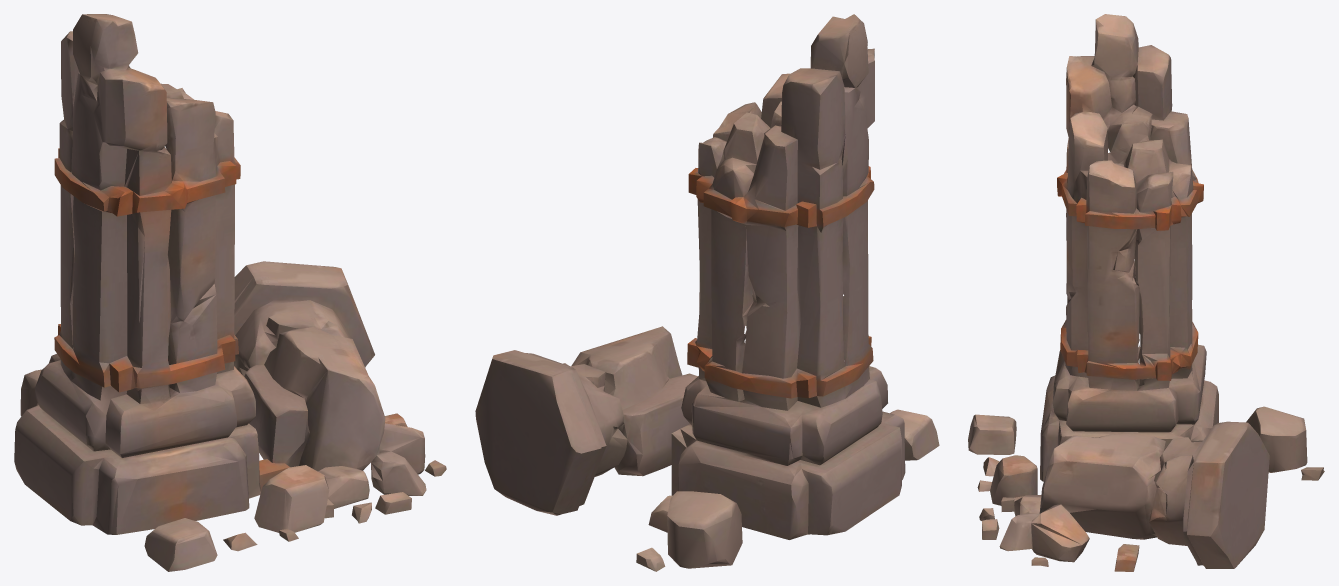
Rendered from column_broken.glb.
The picture shows the model from 3 angles, left to right: view 1: azimuth 30°, elevation 25°; view 2: azimuth 150°, elevation 25°; view 3: azimuth 270°, elevation 25°; orthographic projection. The views are drawn at different scales.
Parts seen in each view (by area): view 1: body; view 2: body; view 3: body.
Boxes of the visible parts, left/top/right/bottom form: body: left=14, top=14, right=446, bottom=571; body: left=475, top=14, right=939, bottom=571; body: left=968, top=14, right=1324, bottom=571.
Size of the model in its own units: 1.21 by 1.6 by 1.19.
Materials: 1 (1 with a texture image).
